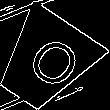O_SW: (11, 28, 79, 95)
